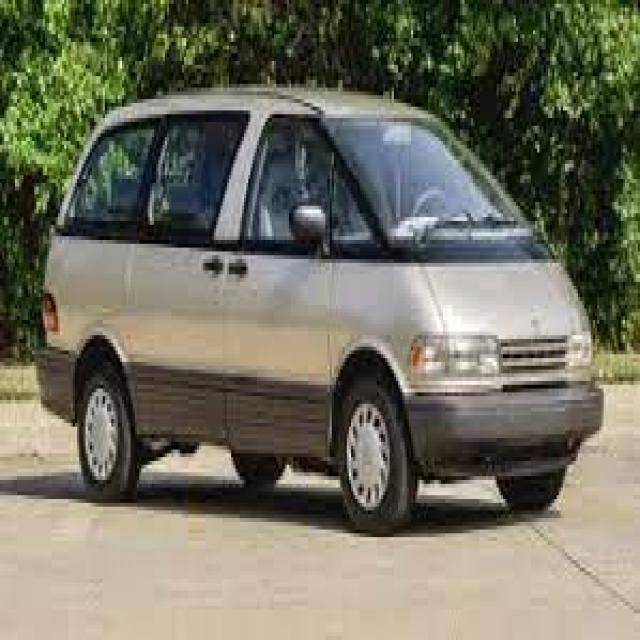Van: (30, 84, 606, 529)
